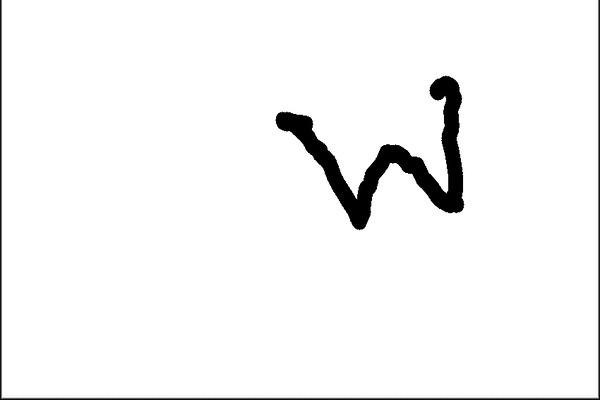w: (259, 59, 488, 255)
